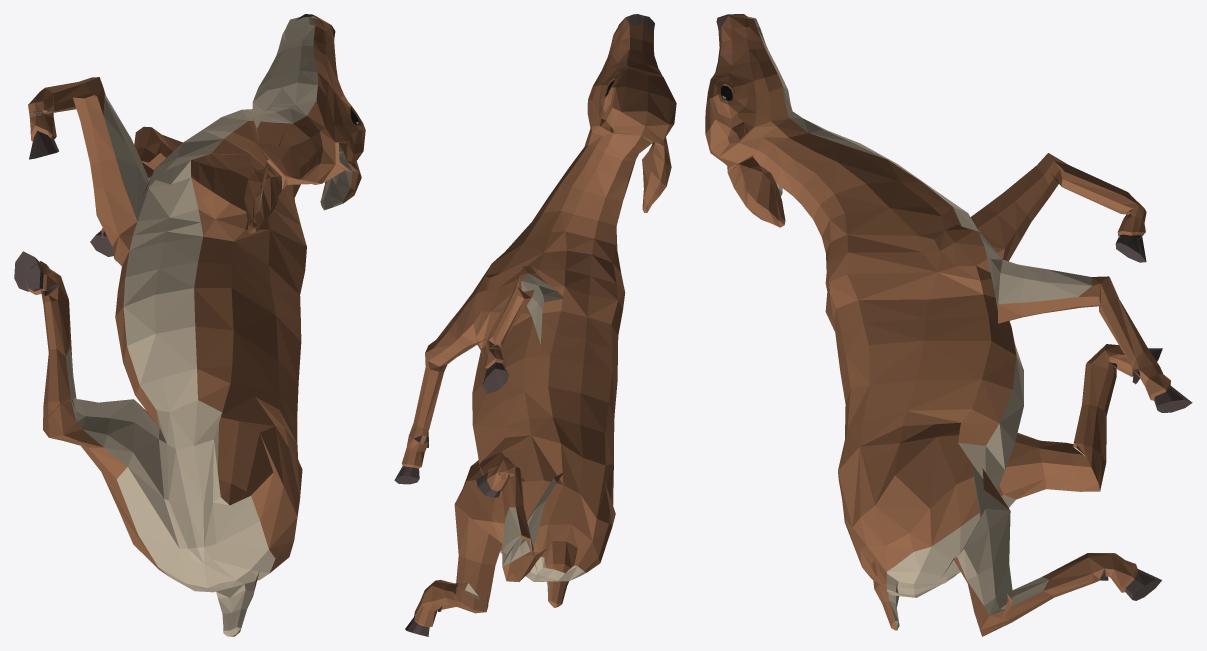
Rendered from deer-gallop-1.glb.
3 views of the same model, side by side, from view 1: azimuth 30°, elevation 25°; view 2: azimuth 150°, elevation 25°; view 3: azimuth 270°, elevation 25° (orthographic). The views are drawn at different scales.
Bounding box in the file's own units: 0.381 × 1.58 × 1.14.
